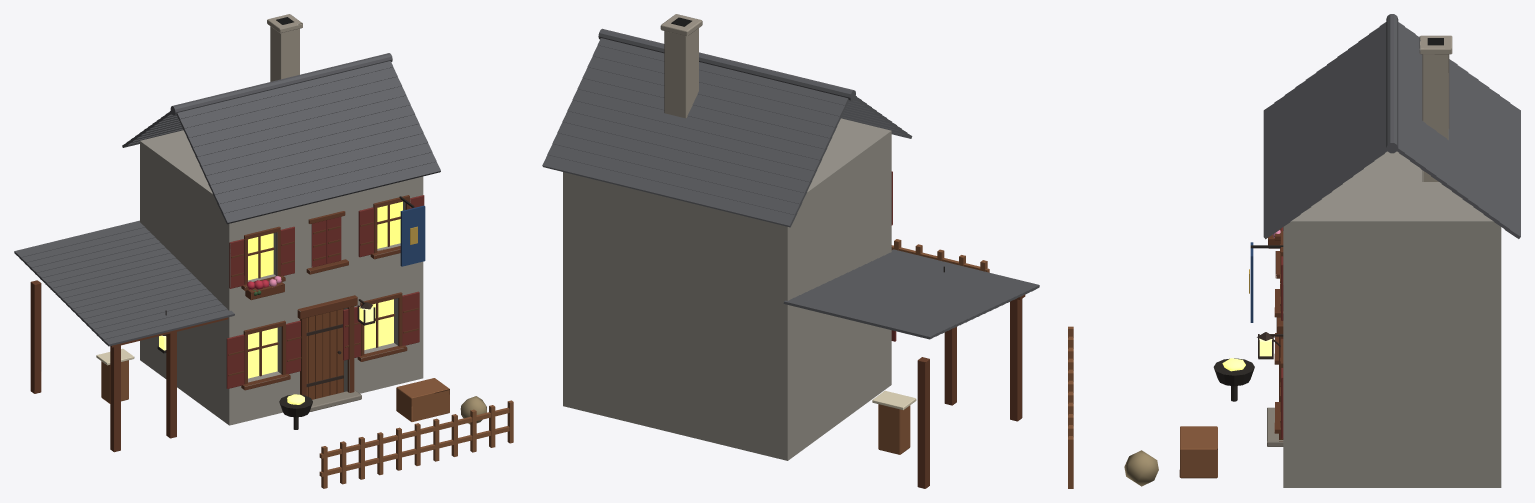
The model's file is guardia_ligero.glb.
3 renders of one model, left to right at view 1: azimuth 30°, elevation 25°; view 2: azimuth 150°, elevation 25°; view 3: azimuth 270°, elevation 25°, orthographic. The views are drawn at different scales.
Visible parts, largest first — view 1: guardia_pa_dentro, guardia_pb_dentro, guardia_tejado_s_0, guardia_tejado_s_2, guardia_tejado_s_4, guardia_tejado_s_7, guardia_tejado_s_8, guardia_tejado_s_5, guardia_tejado_s_9, guardia_tejado_s_10, guardia_tejado_s_1, guardia_tejado_s_6 (+63 smaller); view 2: guardia_pb_dentro, guardia_pa_dentro, guardia_tejado_n_0, guardia_tejado_n_5, guardia_tejado_n_2, guardia_tejado_n_1, guardia_tejado_n_3, guardia_tejado_n_4, guardia_tejado_n_6, guardia_tejado_n_7, guardia_tejado_n_8, guardia_tejado_n_9 (+29 smaller); view 3: guardia_pa_dentro, guardia_pb_dentro, guardia_pb.008, guardia_chimenea0, caja_requisada, guardia_tejado_cumbrera, guardia_pa.009, guardia_tejado_s_0, guardia_tejado_s_2, guardia_tejado_n_3, guardia_tejado_s_4, guardia_tejado_n_5 (+22 smaller).
Boxes of the visible parts, x1=… form: guardia_pa_dentro: x1=140, y1=130, x2=223, y2=303; guardia_pb_dentro: x1=140, y1=300, x2=222, y2=420; guardia_tejado_s_0: x1=221, y1=161, x2=440, y2=224; guardia_tejado_s_2: x1=212, y1=143, x2=432, y2=204; guardia_tejado_s_4: x1=204, y1=124, x2=423, y2=185; guardia_tejado_s_7: x1=191, y1=95, x2=410, y2=157; guardia_tejado_s_8: x1=186, y1=86, x2=406, y2=147; guardia_tejado_s_5: x1=199, y1=114, x2=419, y2=175; guardia_tejado_s_9: x1=182, y1=76, x2=401, y2=138; guardia_tejado_s_10: x1=178, y1=67, x2=397, y2=128; guardia_tejado_s_1: x1=217, y1=152, x2=436, y2=213; guardia_tejado_s_6: x1=195, y1=105, x2=414, y2=166; guardia_pb_dentro: x1=563, y1=254, x2=883, y2=460; guardia_pa_dentro: x1=563, y1=124, x2=885, y2=324; guardia_tejado_n_0: x1=542, y1=155, x2=797, y2=227; guardia_tejado_n_5: x1=567, y1=100, x2=822, y2=172; guardia_tejado_n_2: x1=552, y1=133, x2=807, y2=205; guardia_tejado_n_1: x1=547, y1=144, x2=801, y2=215; guardia_tejado_n_3: x1=557, y1=122, x2=812, y2=193; guardia_tejado_n_4: x1=562, y1=111, x2=816, y2=182; guardia_tejado_n_6: x1=572, y1=89, x2=827, y2=160; guardia_tejado_n_7: x1=577, y1=78, x2=832, y2=149; guardia_tejado_n_8: x1=582, y1=67, x2=837, y2=139; guardia_tejado_n_9: x1=587, y1=56, x2=842, y2=128; guardia_pa_dentro: x1=1297, y1=151, x2=1501, y2=344; guardia_pb_dentro: x1=1299, y1=344, x2=1501, y2=487; guardia_pb.008: x1=1283, y1=344, x2=1299, y2=487; guardia_chimenea0: x1=1422, y1=48, x2=1449, y2=181; caja_requisada: x1=1179, y1=426, x2=1217, y2=478; guardia_tejado_cumbrera: x1=1386, y1=14, x2=1398, y2=153; guardia_pa.009: x1=1283, y1=217, x2=1296, y2=344; guardia_tejado_s_0: x1=1263, y1=103, x2=1279, y2=239; guardia_tejado_s_2: x1=1284, y1=88, x2=1300, y2=223; guardia_tejado_n_3: x1=1473, y1=80, x2=1489, y2=216; guardia_tejado_s_4: x1=1305, y1=73, x2=1321, y2=207; guardia_tejado_n_5: x1=1452, y1=65, x2=1468, y2=199.
Bounding box in the file's own units: 8.5 × 8.15 × 8.31.
